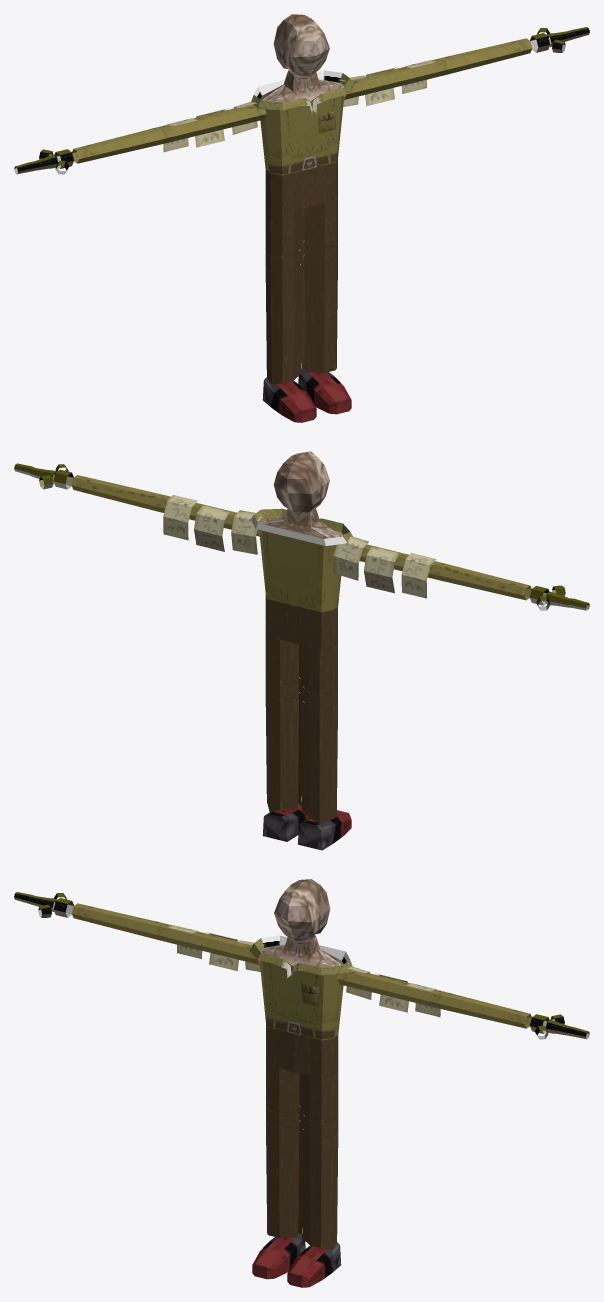
File: tposetaxman.glb
The picture shows the model from 3 angles, top to bottom: view 1: azimuth 30°, elevation 25°; view 2: azimuth 150°, elevation 25°; view 3: azimuth 330°, elevation 25°; orthographic projection.
Parts seen in each view (by area): view 1: ourguy; view 2: ourguy; view 3: ourguy.
Boxes of the visible parts, x1,y1,x2,y2 form: ourguy: [14, 14, 589, 422]; ourguy: [14, 451, 589, 850]; ourguy: [14, 879, 589, 1287].
Size of the model in its own units: 5.46 by 3.49 by 0.6393.
2 materials, 2 textured.
